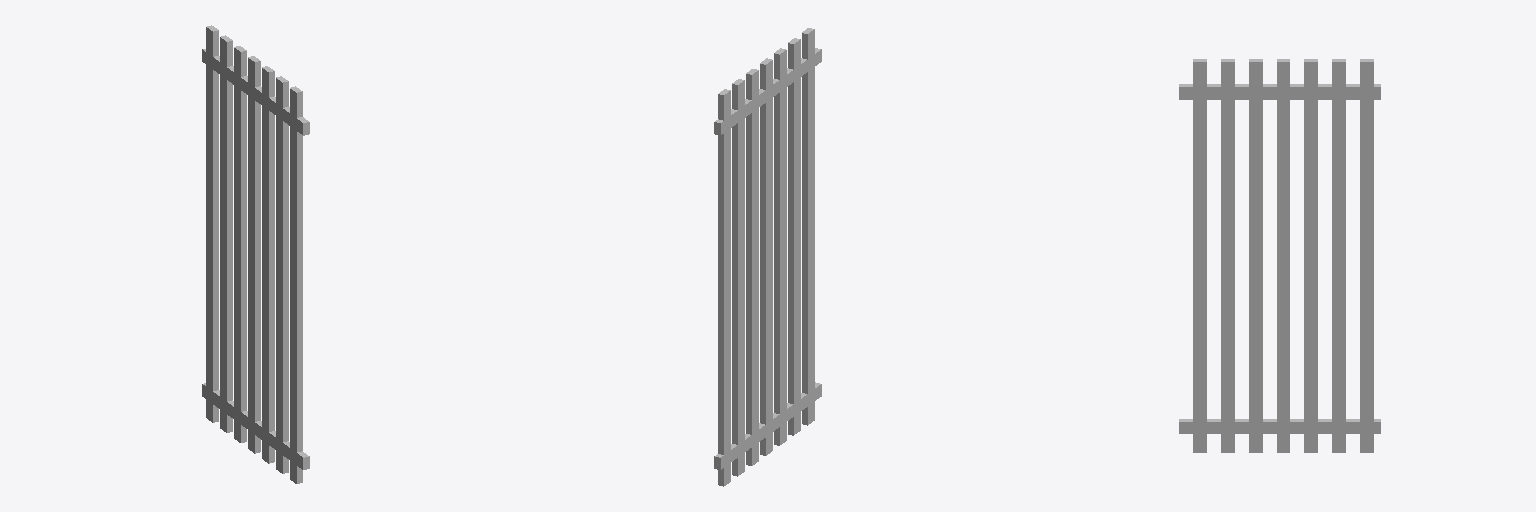
Rendered from tile vallas.obj.
The picture shows the model from 3 angles: view 1: azimuth 30°, elevation 25°; view 2: azimuth 150°, elevation 25°; view 3: azimuth 270°, elevation 25°; orthographic projection.
Parts seen in each view (by area): view 1: object 1; view 2: object 1; view 3: object 1.
Boxes of the visible parts, box(x1,y1,x2,y2) form: object 1: box(202, 25, 309, 483); object 1: box(714, 28, 821, 486); object 1: box(1179, 59, 1380, 452).
Size of the model in its own units: 0.1 by 6.2 by 2.9.